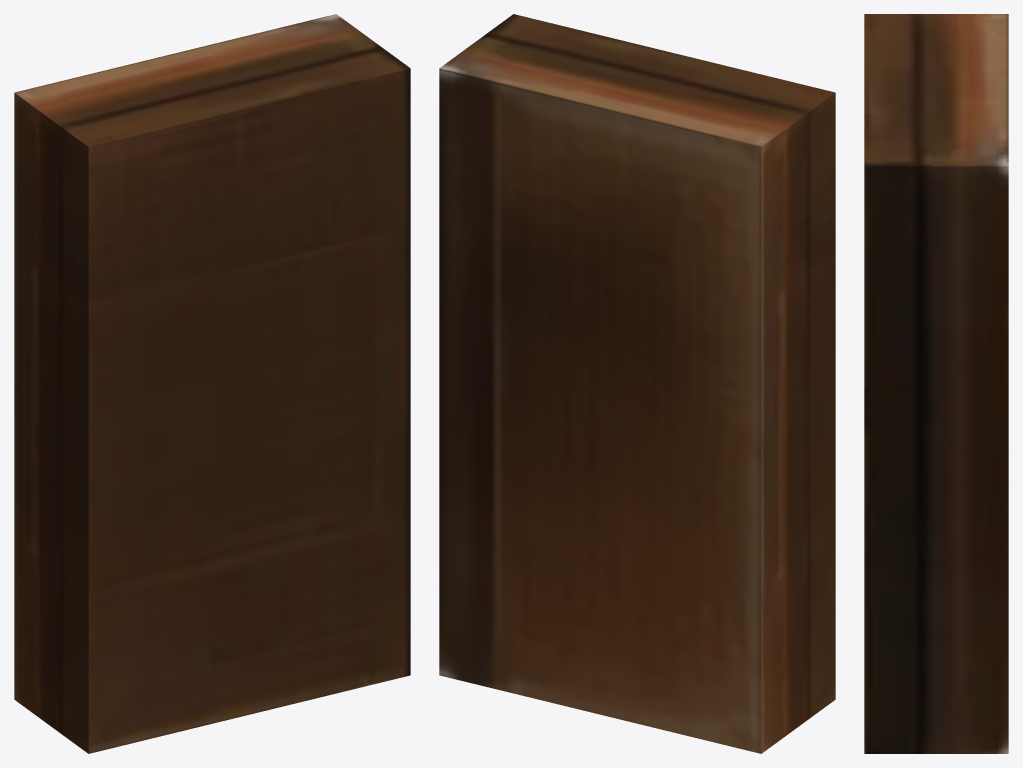
Rendered from backrest__hinge_block.glb.
The picture shows the model from 3 angles, left to right: view 1: azimuth 30°, elevation 25°; view 2: azimuth 150°, elevation 25°; view 3: azimuth 270°, elevation 25°; orthographic projection. The views are drawn at different scales.
Visible parts, largest first — view 1: geometry_0; view 2: geometry_0; view 3: geometry_0.
Part boxes in pixels (left/top/right/bottom): geometry_0: left=14, top=14, right=410, bottom=753; geometry_0: left=439, top=14, right=835, bottom=753; geometry_0: left=864, top=14, right=1008, bottom=753.
Bounding box in the file's own units: 0.1 × 0.18 × 0.04.
Materials: 1 (1 with a texture image).
